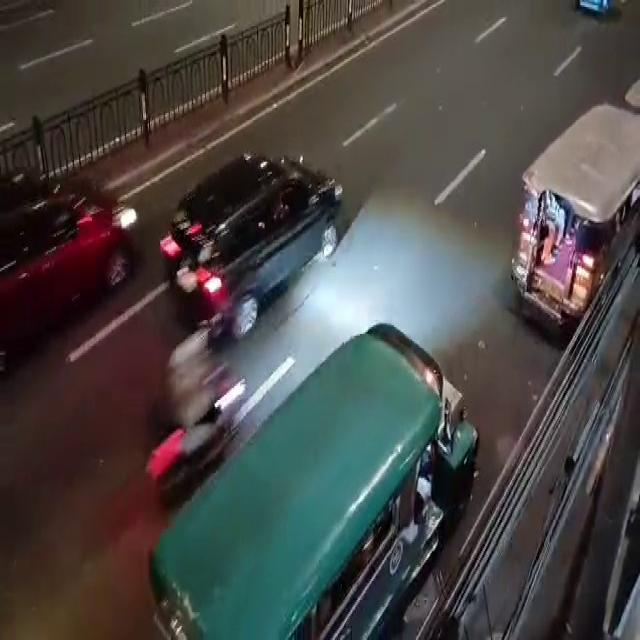car: (160, 122, 348, 348)
jeepney: (143, 297, 498, 638), (504, 94, 640, 358)
